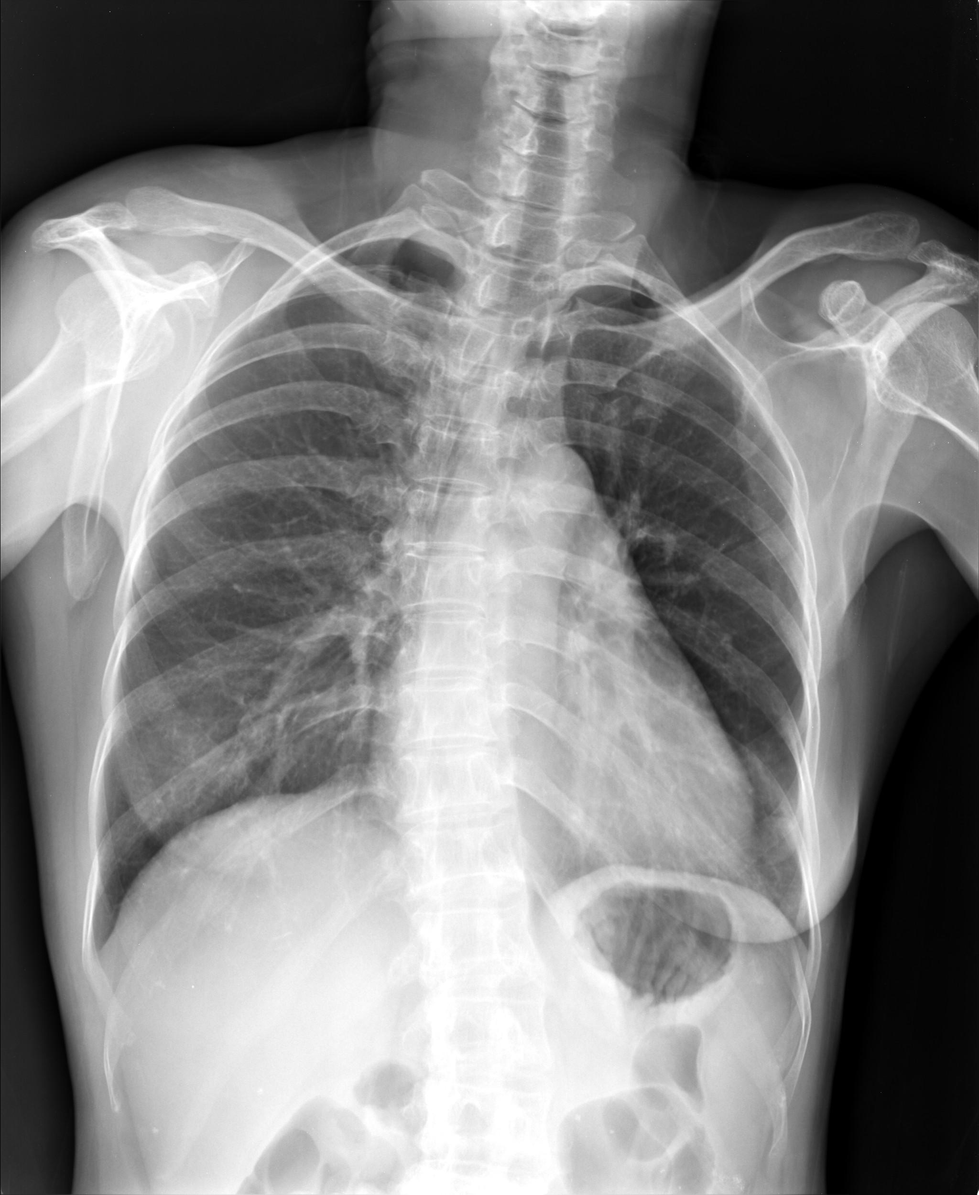Cardiomegaly: (363, 721, 752, 877)
Pleural thickening: (78, 915, 124, 969)
